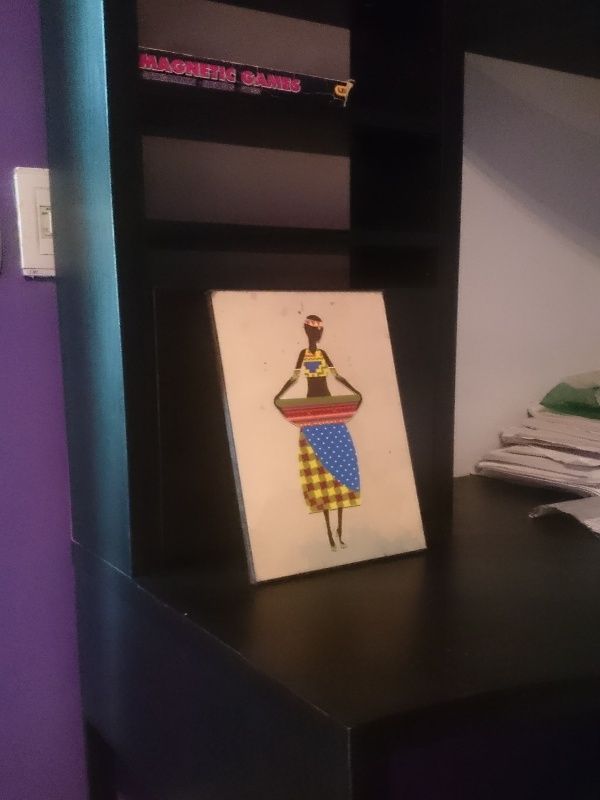my image: (209, 291, 426, 584)
